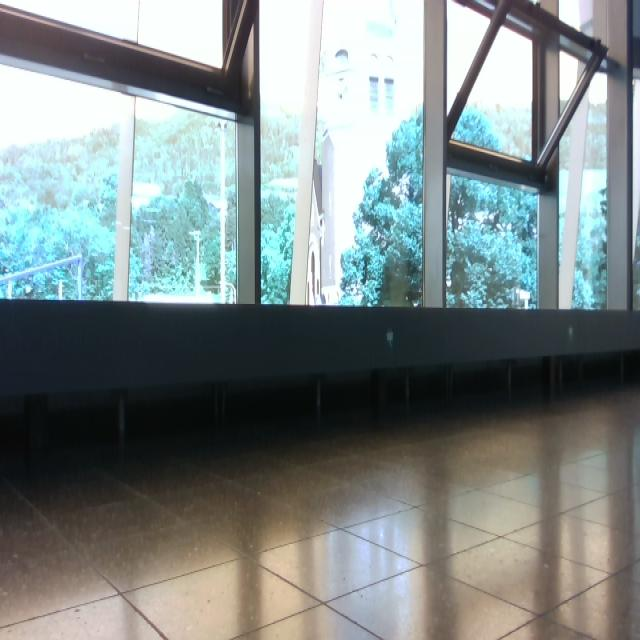light bulb: (386, 328, 394, 346)
tiled floor: (2, 383, 639, 639)
window: (1, 1, 640, 314)
